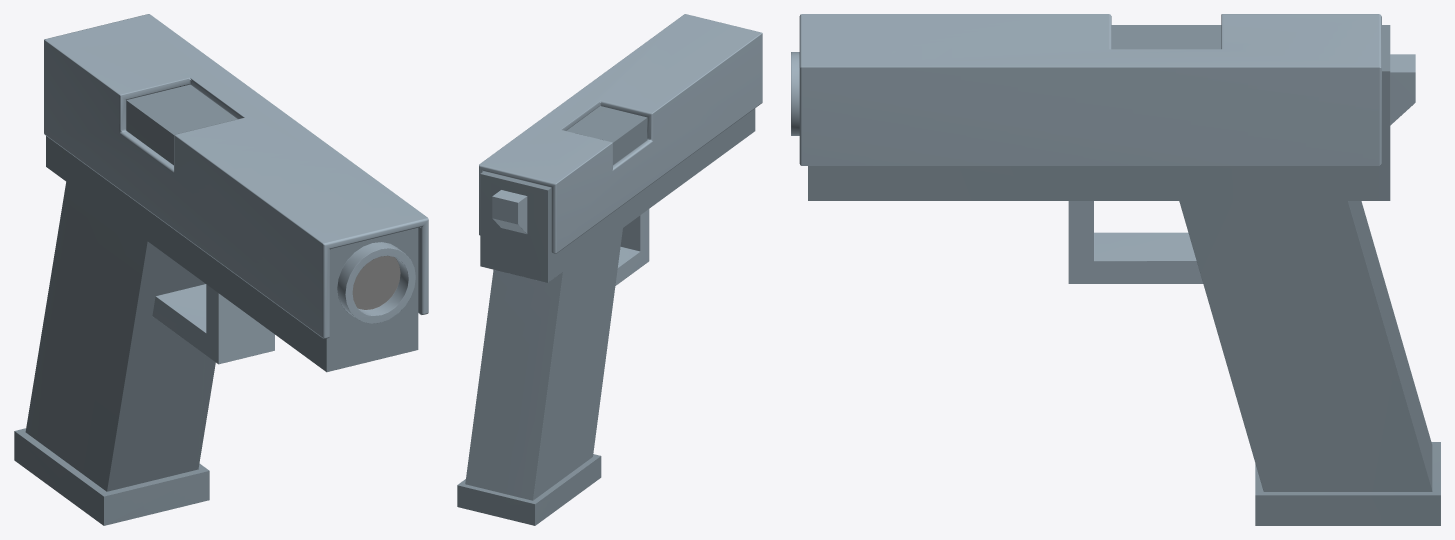
Rendered from pistol.glb.
3 renders of one model, left to right at view 1: azimuth 30°, elevation 25°; view 2: azimuth 150°, elevation 25°; view 3: azimuth 270°, elevation 25°, orthographic. The views are drawn at different scales.
Visible parts, largest first — view 1: Group.001, Group; view 2: Group.001, Group; view 3: Group.001, Group.
Boxes of the visible parts, x1=… form: Group.001: x1=14, y1=84, x2=418, y2=525; Group: x1=44, y1=14, x2=428, y2=338; Group.001: x1=457, y1=106, x2=755, y2=525; Group: x1=479, y1=14, x2=762, y2=253; Group.001: x1=791, y1=25, x2=1440, y2=525; Group: x1=799, y1=14, x2=1381, y2=165.
Bounding box in the file's own units: 0.0574 × 0.2297 × 0.2948.
